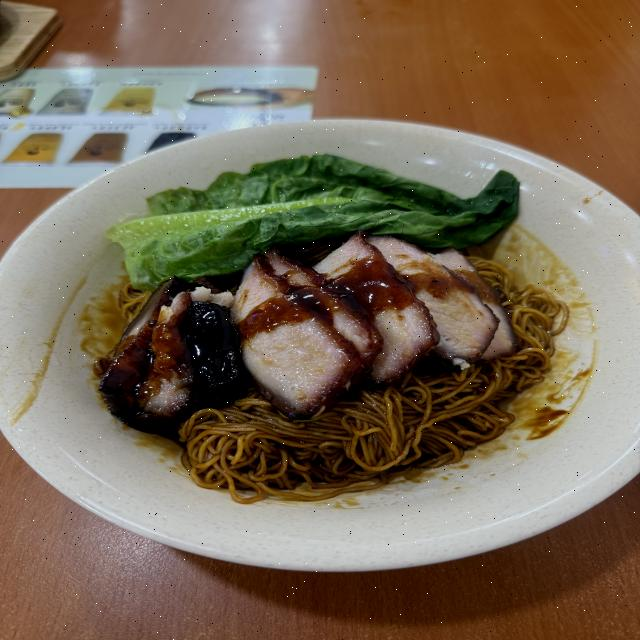Wantan Mee: (14, 130, 610, 551)
